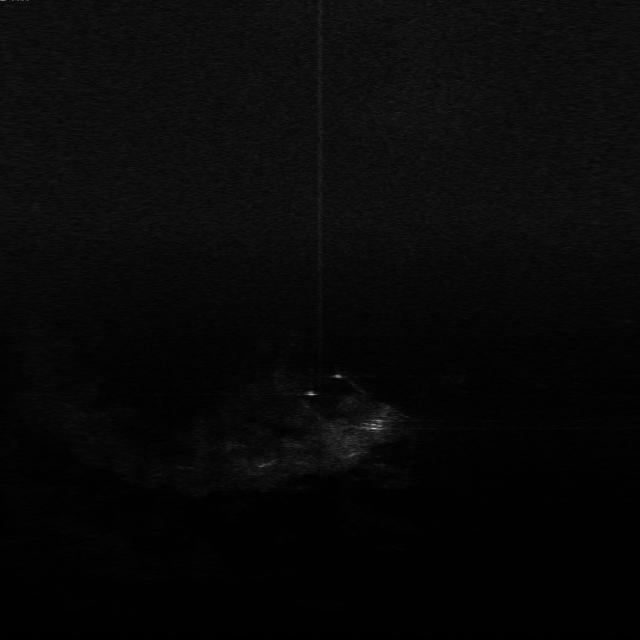rov: (359, 416, 387, 433)
